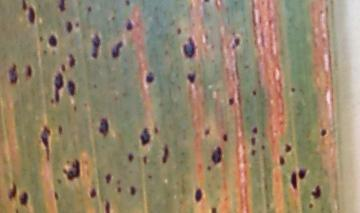tarspot: (37, 124, 54, 158), (178, 34, 198, 60), (63, 157, 82, 183), (108, 37, 126, 63), (94, 116, 114, 138), (207, 142, 225, 166), (89, 29, 101, 62), (136, 123, 153, 146), (190, 185, 207, 205), (52, 72, 62, 106), (45, 31, 61, 51), (7, 62, 20, 86), (27, 2, 38, 30), (142, 68, 157, 87), (158, 144, 171, 165), (287, 168, 298, 192), (183, 70, 201, 84), (309, 183, 323, 201), (18, 188, 30, 209), (64, 78, 77, 97), (66, 52, 79, 70), (7, 180, 18, 201), (51, 187, 64, 204), (231, 33, 243, 51), (101, 197, 114, 213), (23, 63, 34, 81), (123, 17, 135, 33), (55, 120, 65, 139), (201, 124, 214, 138), (100, 172, 115, 184), (225, 94, 236, 110), (88, 184, 98, 201), (297, 166, 309, 180), (63, 20, 75, 34), (84, 2, 95, 17), (127, 183, 137, 199), (248, 123, 261, 135), (276, 154, 287, 168), (57, 1, 68, 15), (114, 182, 125, 196), (124, 151, 136, 163), (141, 152, 150, 168), (282, 141, 293, 154), (220, 130, 230, 144), (288, 83, 297, 98), (317, 127, 330, 137), (304, 200, 318, 209), (249, 135, 259, 147), (208, 203, 220, 213), (248, 147, 259, 157), (258, 141, 268, 152), (153, 122, 160, 137), (146, 172, 156, 182), (123, 1, 134, 10), (20, 1, 27, 15), (250, 88, 257, 98)
